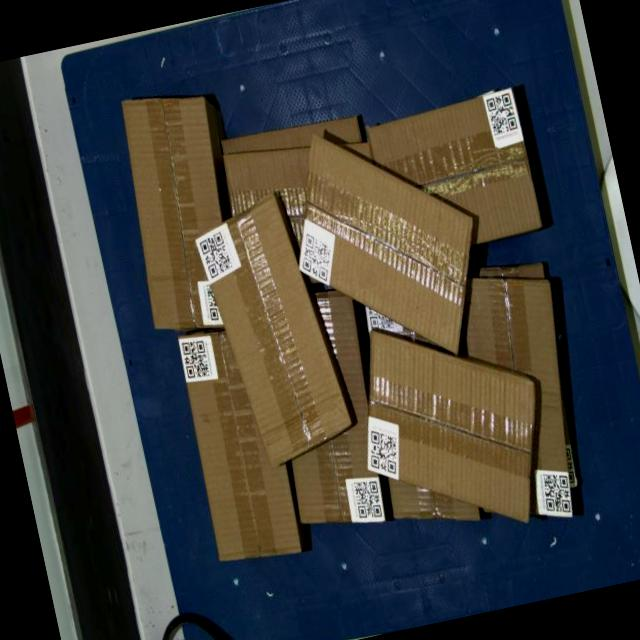box: (270, 103, 500, 384), (338, 298, 564, 554), (188, 186, 358, 474), (106, 83, 252, 341)
